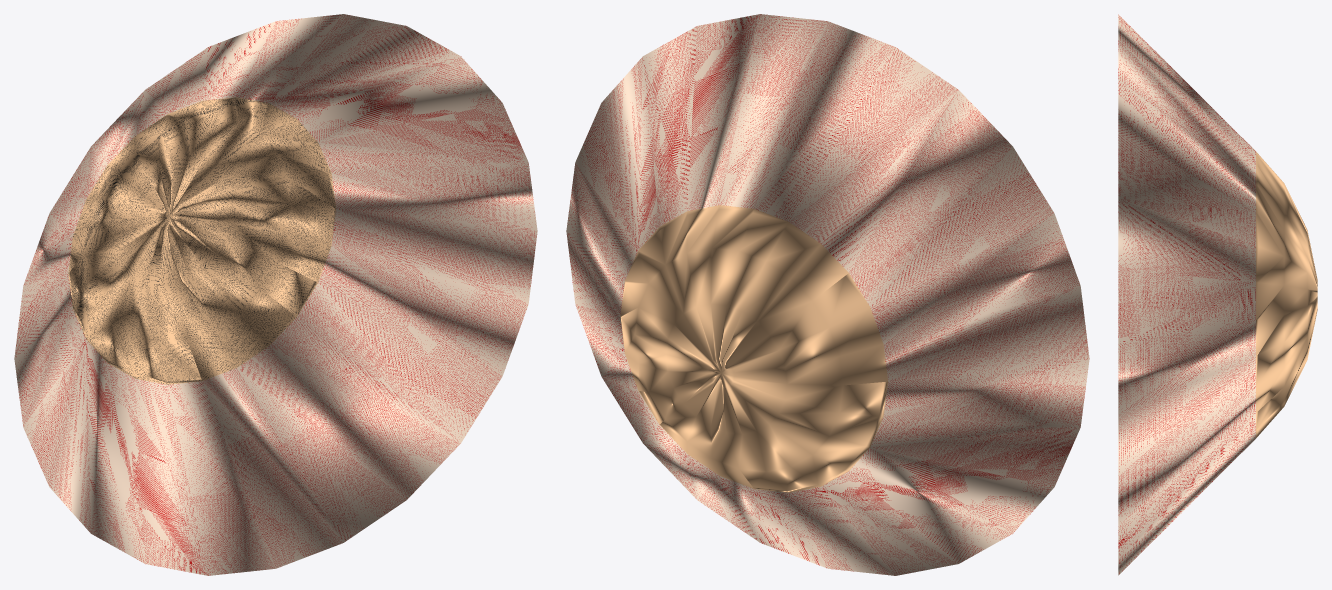
Rendered from model_align.obj.
The picture shows the model from 3 angles, left to right: view 1: azimuth 30°, elevation 25°; view 2: azimuth 150°, elevation 25°; view 3: azimuth 270°, elevation 25°; orthographic projection. The views are drawn at different scales.
Size of the model in its own units: 0.1392 by 0.1392 by 0.0493.
